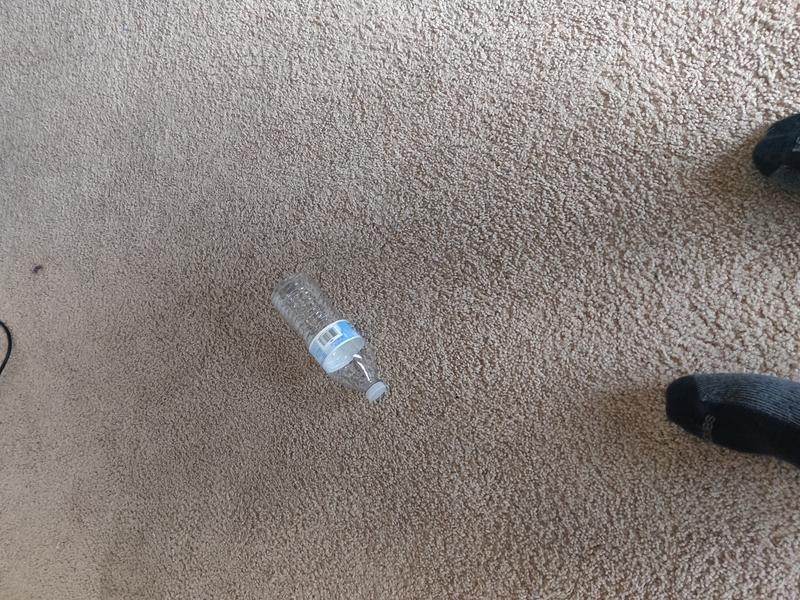bottle: (272, 274, 387, 403)
